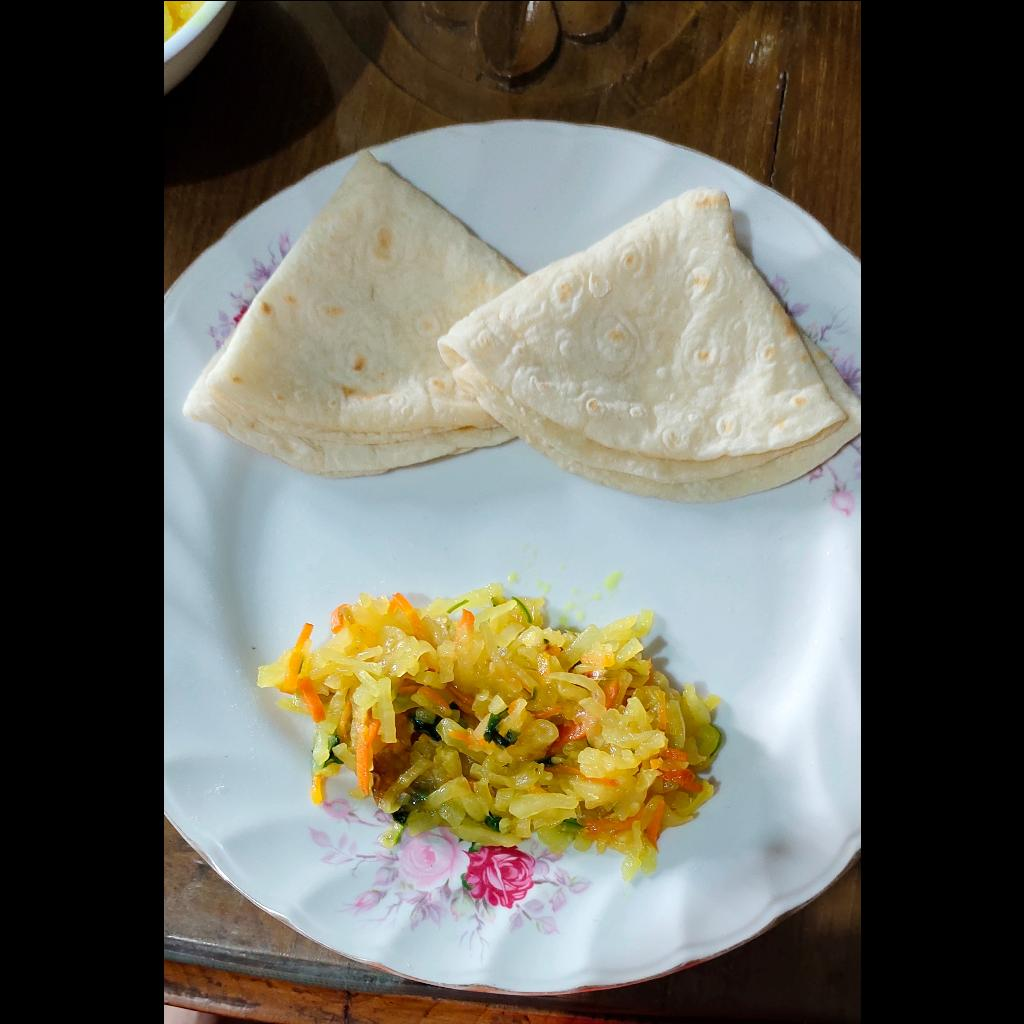ruti: (178, 147, 861, 501)
vaji: (257, 579, 722, 900)
